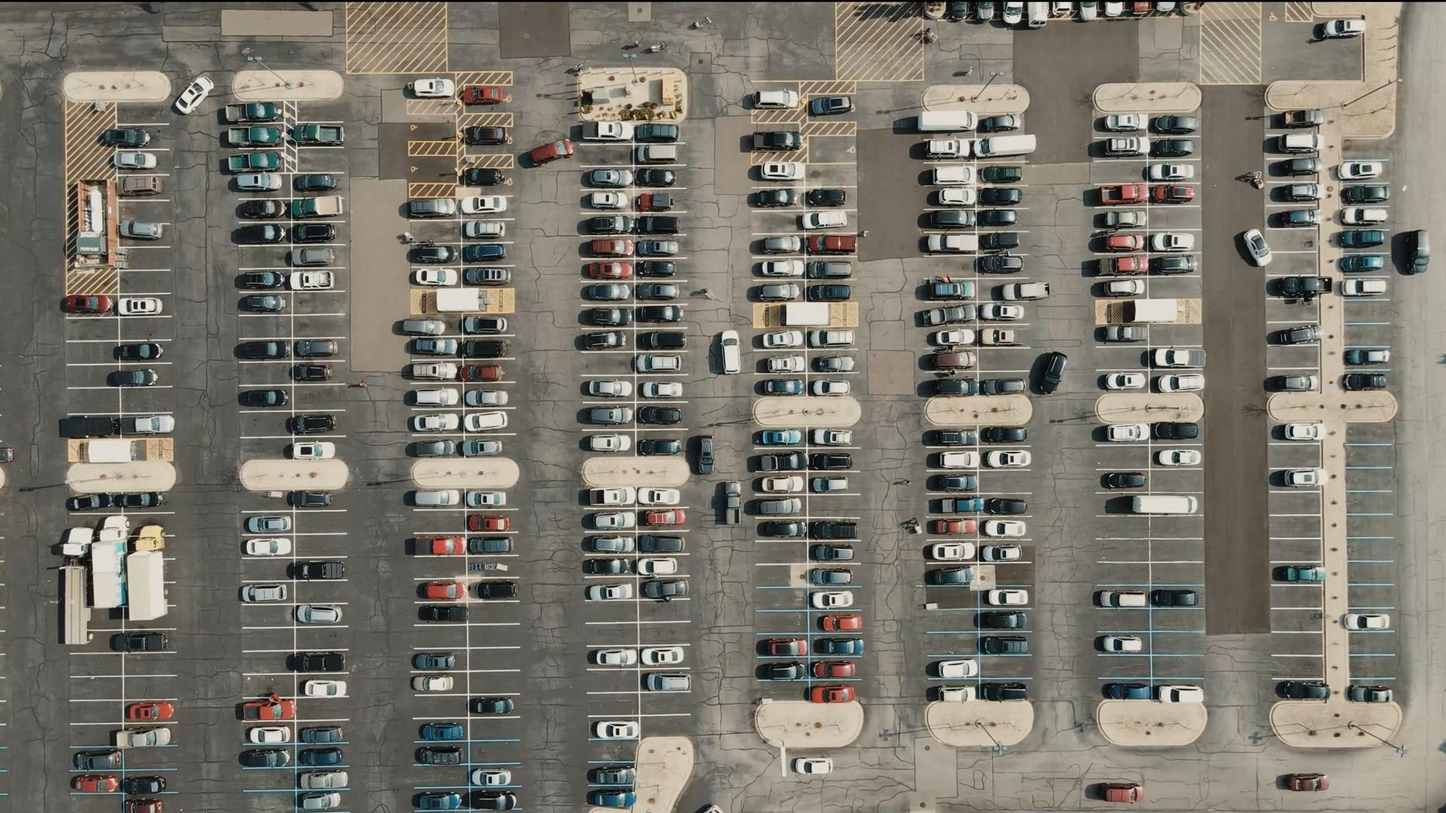free: (292, 289, 351, 315)
occupied: (585, 490, 688, 589), (174, 74, 214, 114), (1396, 230, 1431, 274), (977, 135, 1037, 159), (1239, 227, 1273, 266), (243, 696, 295, 721), (1038, 351, 1068, 394), (920, 110, 976, 133), (59, 416, 114, 439), (1129, 495, 1195, 514), (292, 123, 344, 146), (227, 126, 283, 147), (716, 329, 741, 376), (530, 139, 575, 165), (1275, 680, 1330, 701), (112, 632, 169, 652), (225, 153, 279, 174), (1315, 18, 1366, 40), (1275, 276, 1331, 296), (293, 196, 342, 218), (229, 102, 282, 122), (290, 652, 343, 672), (1155, 348, 1207, 368), (1272, 325, 1324, 345), (120, 728, 171, 748), (241, 748, 292, 768), (414, 791, 465, 811), (238, 199, 286, 220), (127, 701, 175, 722), (58, 528, 94, 556), (61, 295, 113, 314), (75, 750, 122, 771), (236, 341, 287, 360), (924, 138, 970, 159), (1097, 782, 1143, 803), (754, 131, 802, 151), (583, 121, 631, 141), (1099, 184, 1147, 204), (981, 683, 1029, 703), (1101, 256, 1149, 276), (1339, 160, 1386, 180), (593, 720, 640, 740), (295, 604, 342, 624), (759, 637, 806, 657), (407, 198, 456, 217), (296, 562, 345, 581), (1149, 256, 1198, 275), (758, 662, 807, 681), (1281, 773, 1330, 792), (473, 790, 517, 811), (121, 775, 167, 795), (416, 746, 464, 765), (931, 234, 979, 253), (1277, 132, 1320, 153), (1103, 683, 1153, 701), (933, 659, 978, 679), (103, 128, 150, 147), (1342, 185, 1389, 204), (1342, 206, 1389, 225), (240, 584, 287, 603), (302, 770, 349, 789), (72, 774, 119, 793), (133, 525, 166, 552), (413, 489, 462, 507), (292, 223, 336, 243), (1104, 137, 1148, 157), (754, 89, 798, 109), (119, 175, 163, 195), (289, 271, 333, 291), (634, 123, 680, 142), (461, 195, 507, 214), (412, 244, 458, 263), (802, 211, 848, 230), (1159, 685, 1205, 704), (1103, 424, 1149, 443), (808, 685, 854, 704), (116, 343, 164, 361), (1147, 163, 1195, 181), (1098, 590, 1146, 608), (239, 389, 287, 407), (418, 605, 466, 623), (411, 78, 454, 98), (809, 96, 852, 116), (132, 414, 175, 434), (465, 412, 508, 432), (298, 791, 341, 811), (1154, 114, 1199, 133), (1277, 157, 1322, 176), (587, 168, 632, 187), (291, 414, 336, 433), (420, 722, 465, 741), (246, 726, 291, 745), (300, 748, 345, 767), (592, 767, 637, 786), (1102, 371, 1147, 390), (591, 790, 636, 809), (109, 369, 159, 386), (293, 173, 340, 191), (1102, 472, 1149, 490), (1158, 375, 1205, 393), (120, 220, 164, 239), (294, 339, 338, 358), (464, 316, 508, 335), (1343, 278, 1387, 297), (641, 647, 685, 666), (1153, 232, 1197, 251), (475, 581, 519, 600), (461, 438, 505, 457), (1102, 232, 1146, 251), (1275, 565, 1324, 582), (1150, 139, 1196, 157), (288, 442, 334, 460), (241, 295, 287, 313), (1153, 422, 1199, 440), (645, 673, 691, 691), (245, 538, 291, 556), (635, 145, 678, 164), (981, 113, 1024, 132), (759, 161, 802, 180), (1280, 183, 1323, 202), (303, 679, 346, 698), (1343, 372, 1386, 391), (67, 493, 115, 510), (465, 127, 510, 145), (1344, 348, 1389, 366), (1102, 210, 1147, 228), (300, 727, 345, 745), (1340, 254, 1385, 272), (985, 589, 1030, 607), (288, 490, 333, 508), (413, 268, 458, 286), (933, 685, 978, 703), (97, 516, 129, 541), (240, 271, 287, 288), (1151, 590, 1198, 607), (1283, 109, 1325, 128), (462, 86, 504, 105), (1282, 423, 1324, 442), (421, 581, 463, 600), (463, 220, 507, 238), (1282, 469, 1326, 487), (472, 697, 516, 715), (1348, 684, 1392, 702), (1100, 635, 1144, 653), (1150, 185, 1194, 203), (1099, 279, 1143, 297), (1344, 613, 1390, 630), (245, 516, 291, 533), (1341, 230, 1387, 247), (1278, 209, 1324, 226), (592, 649, 638, 666), (792, 757, 833, 776), (115, 151, 158, 169), (1104, 113, 1147, 131), (465, 168, 508, 186), (1273, 374, 1318, 391), (695, 435, 714, 475), (470, 768, 512, 786), (723, 480, 741, 522), (1102, 326, 1146, 343), (466, 267, 510, 284), (1157, 449, 1201, 466), (121, 297, 162, 315), (294, 247, 335, 265), (468, 514, 509, 532), (292, 364, 333, 382), (117, 492, 163, 508), (413, 653, 456, 670), (464, 244, 507, 261), (411, 675, 454, 692), (401, 319, 446, 335), (468, 538, 513, 554), (465, 390, 509, 406), (1027, 1, 1049, 28), (125, 798, 163, 813), (1002, 1, 1025, 25), (975, 1, 995, 21), (1079, 1, 1099, 21), (949, 1, 970, 20), (925, 0, 946, 19), (1104, 0, 1125, 18), (1051, 1, 1074, 17), (1131, 1, 1154, 17), (1155, 1, 1177, 16), (0, 446, 14, 462)
